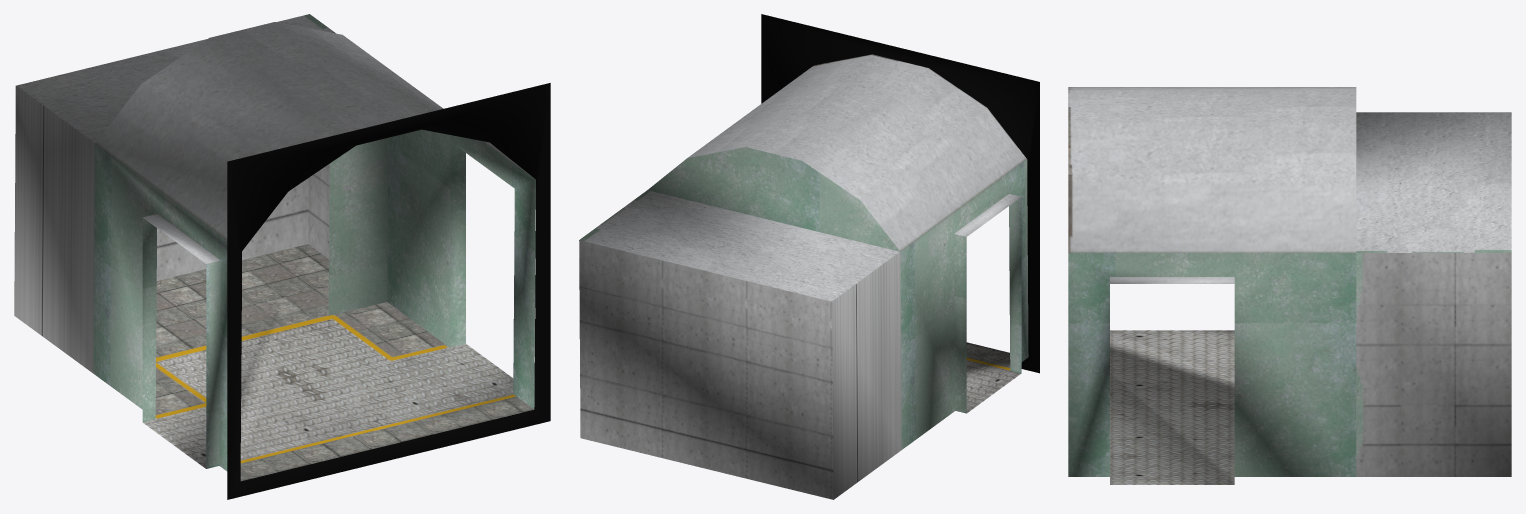
The model's file is лифт.fbx.
3 views of the same model, side by side, from view 1: azimuth 30°, elevation 25°; view 2: azimuth 150°, elevation 25°; view 3: azimuth 270°, elevation 25° (orthographic). The views are drawn at different scales.
Parts seen in each view (by area): view 1: лифт; view 2: лифт; view 3: лифт.
Part boxes in pixels (<box>): лифт: <box>14,14,550,499</box>; лифт: <box>579,14,1039,499</box>; лифт: <box>1068,87,1511,484</box>.
Size of the model in its own units: 330 by 330 by 400.
Materials: 1 (1 with a texture image).
